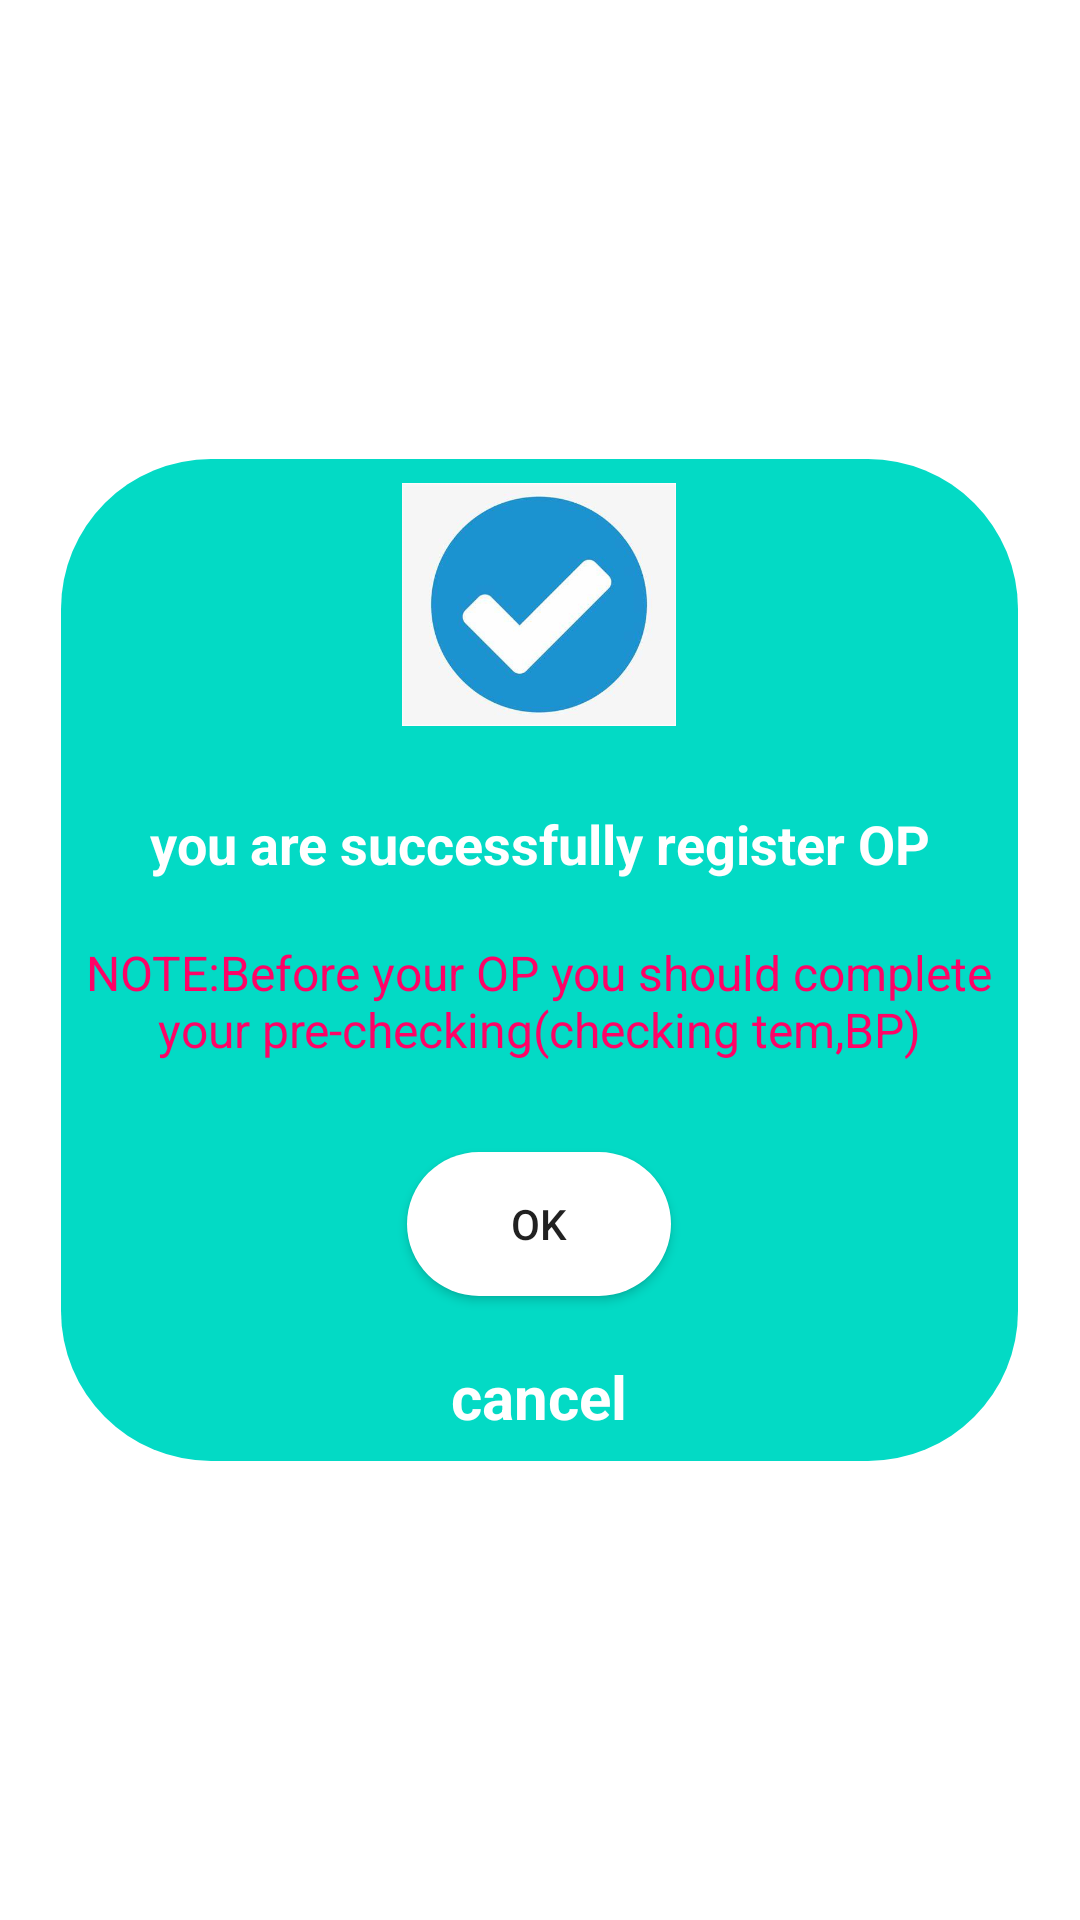

Named icons in this screenshot (1080px x 1920px) and their bounding boxes, box=[x1, y1, x2, y2]:
done: box=[402, 483, 676, 726]
